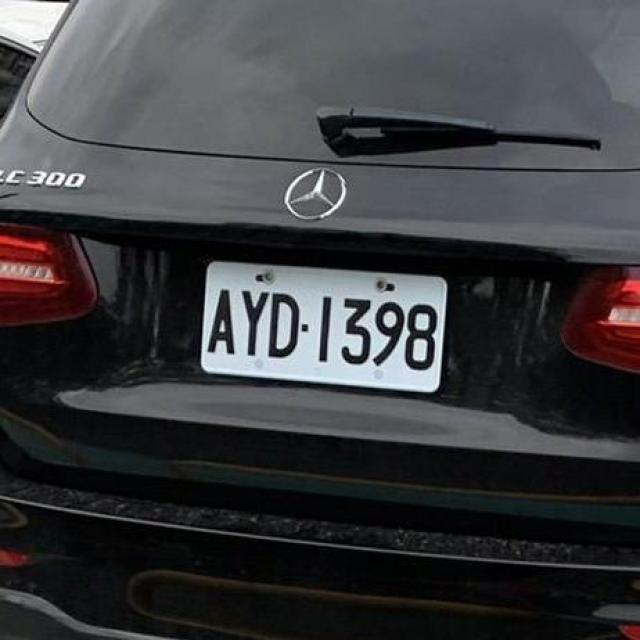W: (202, 261, 446, 393)
